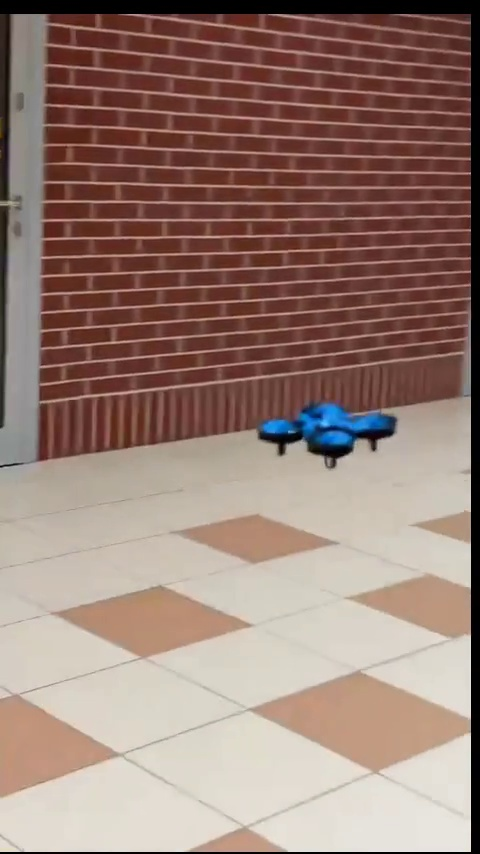drone: (257, 394, 401, 467)
